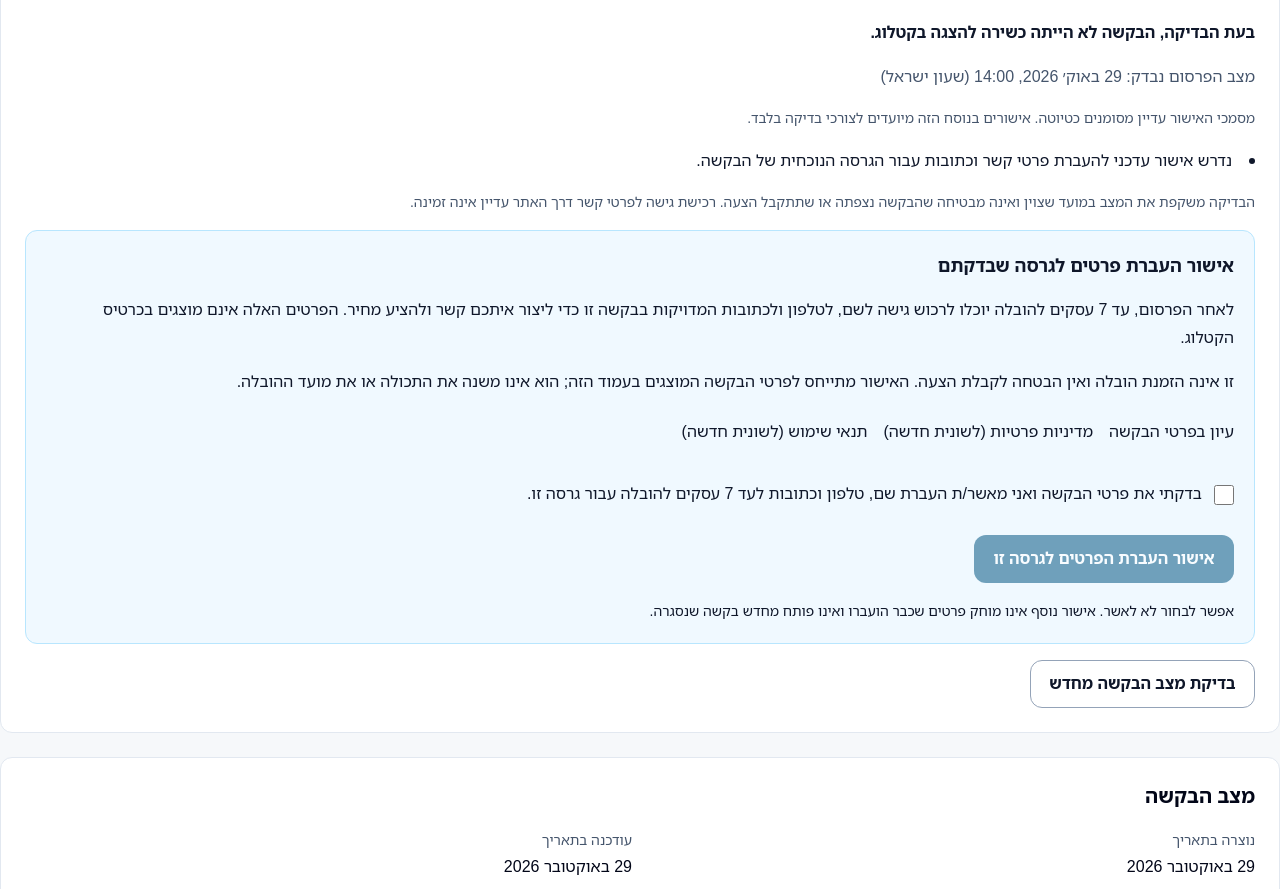
Scenario: owner integration renews against actual displayed contents and resets choice after recipient or version changes
The width and height of the screenshot is (1280, 889).
(page scrolled)
Click the checkbox at (1224, 495), box [1214,485,1234,505]
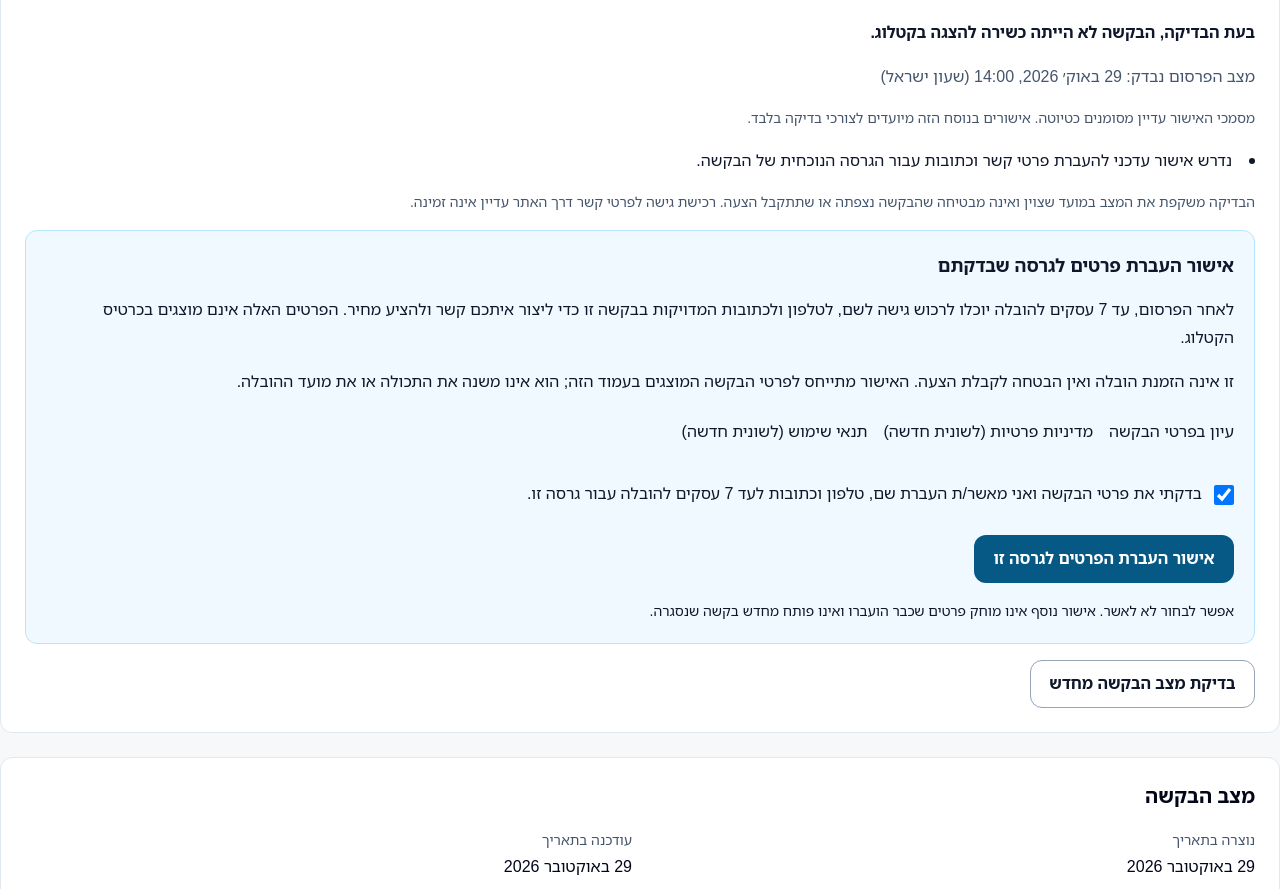
Click the button "בדיקת מצב הבקשה מחדש" at (1142, 684), box [1030,660,1255,708]
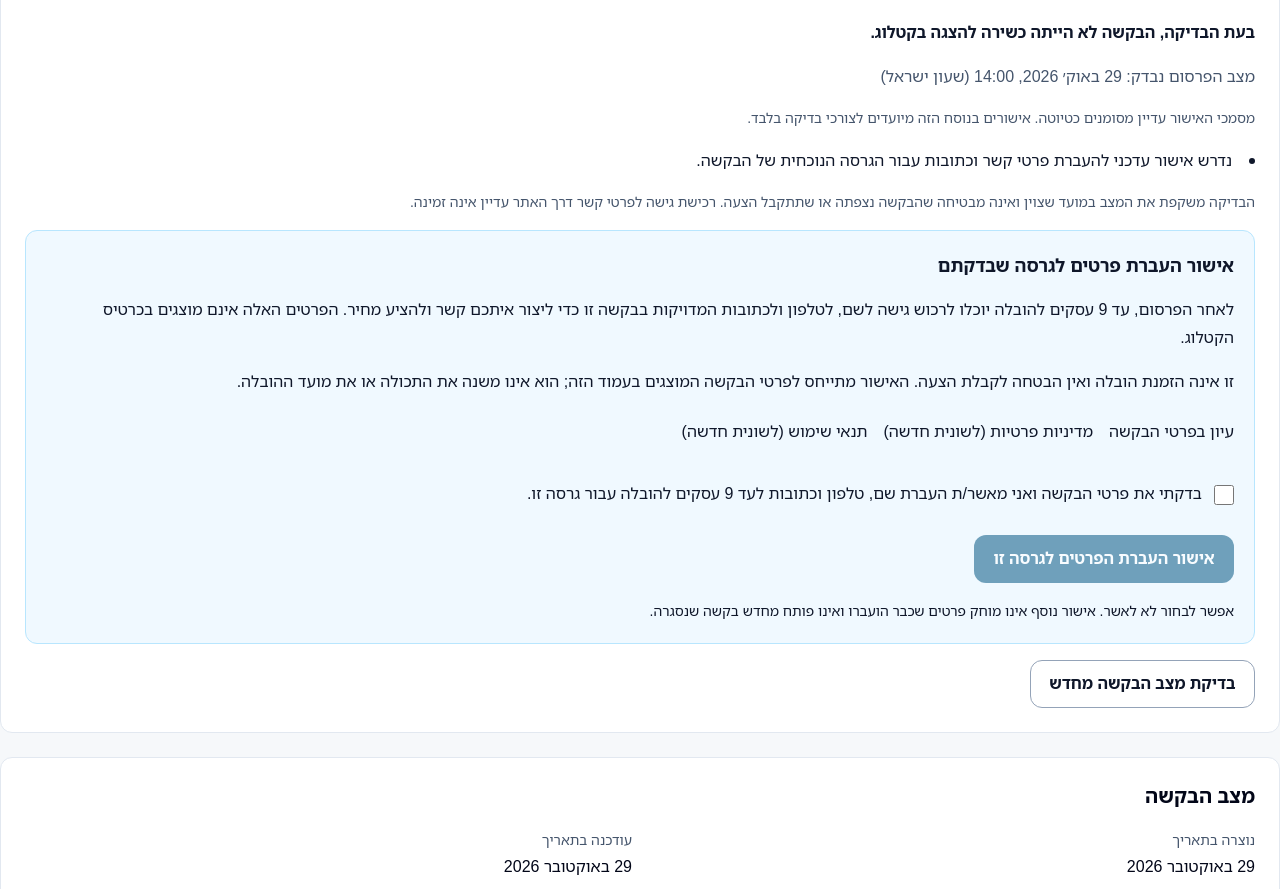
Now the checkbox labelled "לעד 9 עסקים" is not checked
Click the checkbox at (1224, 495), box [1214,485,1234,505]
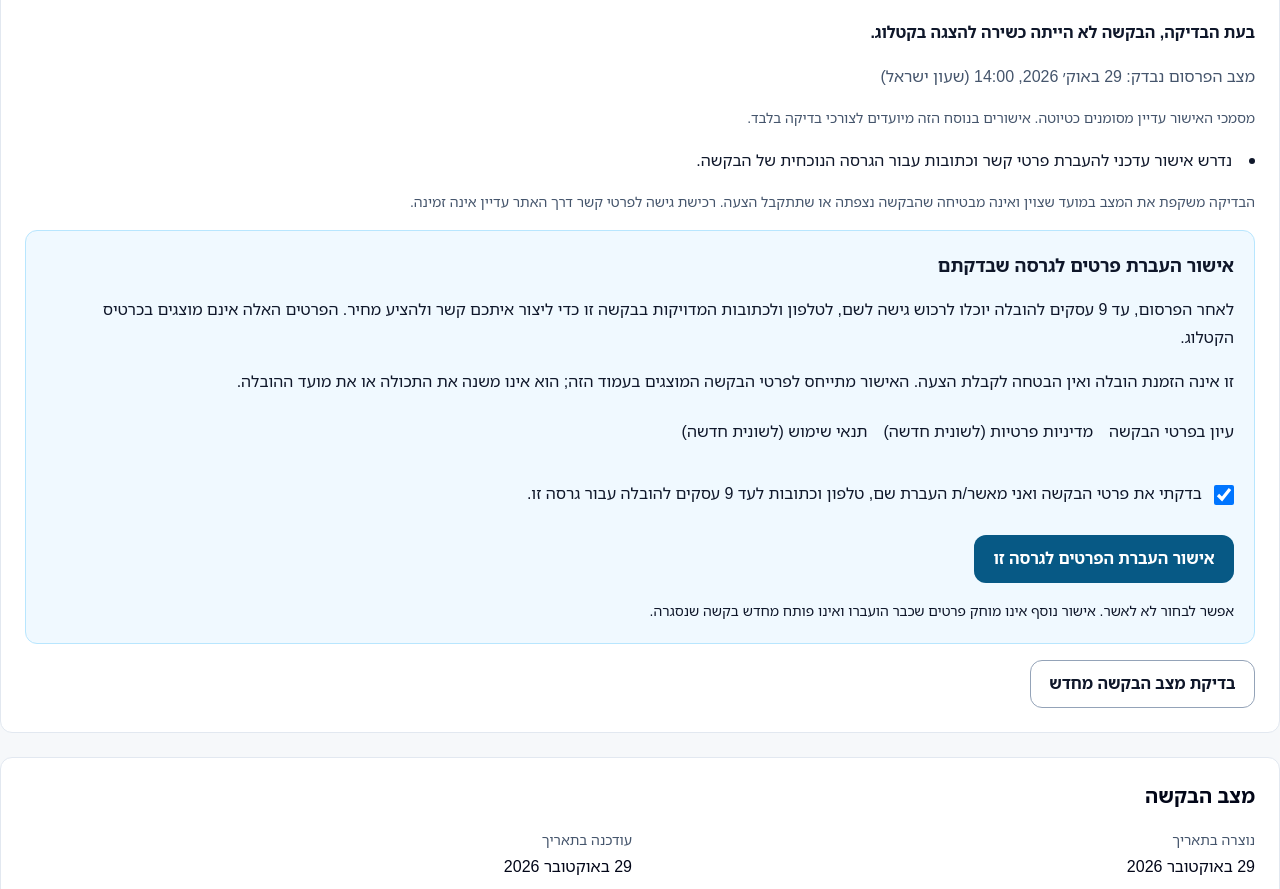
Click the button "בדיקת מצב הבקשה מחדש" at (1142, 684), box [1030,660,1255,708]
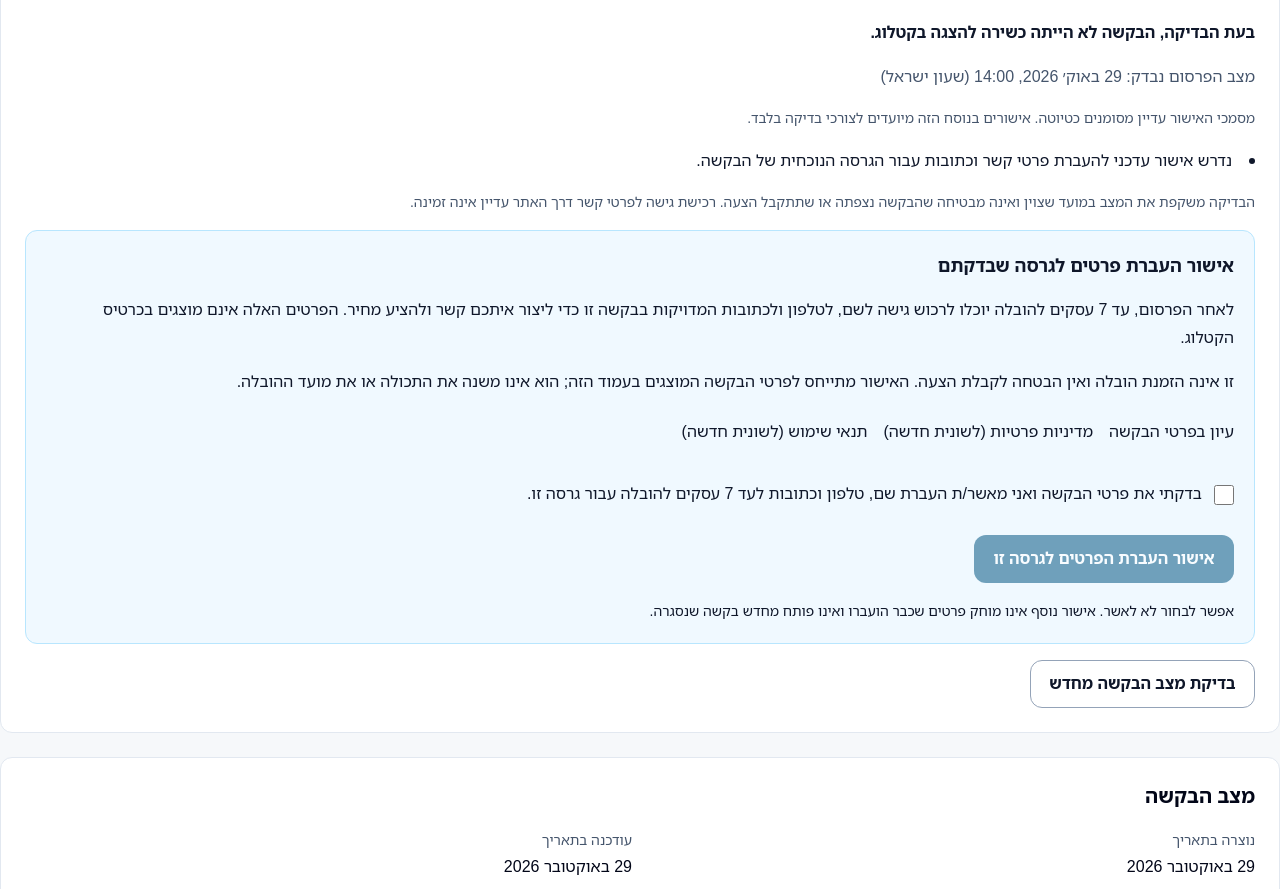
Now the checkbox is not checked, box [1214,485,1234,505]
